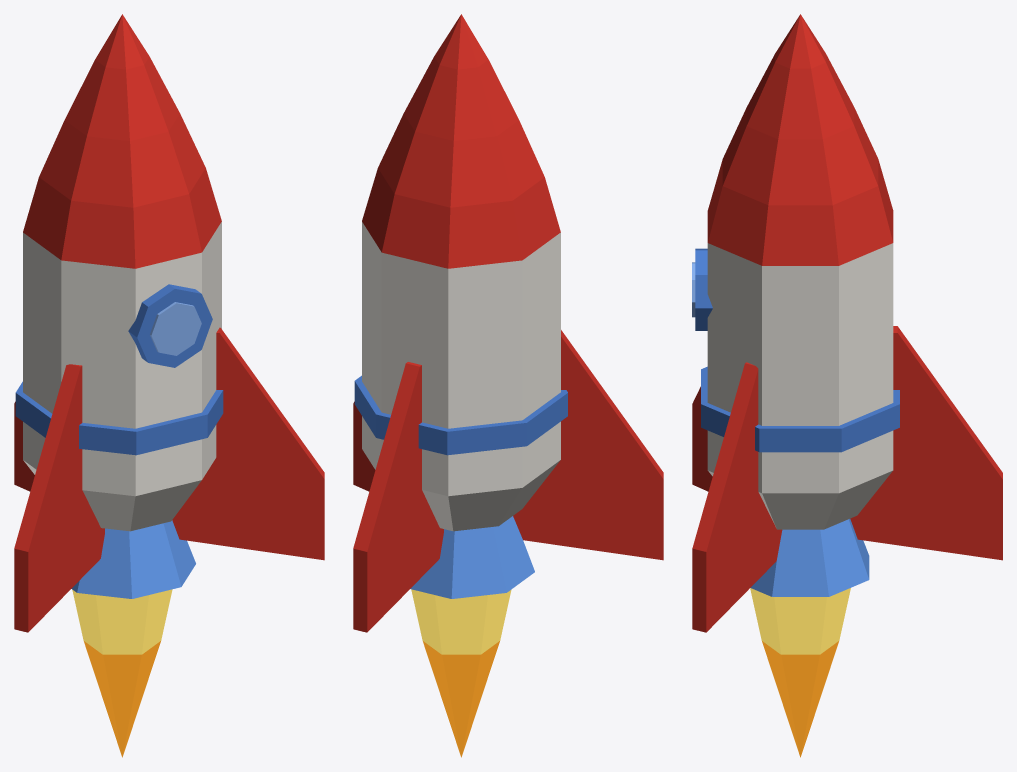
File: rocket.glb
3 views of the same model, side by side, from view 1: azimuth 30°, elevation 25°; view 2: azimuth 150°, elevation 25°; view 3: azimuth 270°, elevation 25° (orthographic).
Parts seen in each view (by area): view 1: Hull, Nose, Fin3, Fin2, Nozzle, Band, FlameBase, FlameTail, PortholeRing, PortholeGlass, Fin1; view 2: Hull, Nose, Fin2, Fin1, Nozzle, Band, FlameBase, FlameTail, Fin3; view 3: Hull, Nose, Fin1, Fin3, Nozzle, Band, FlameBase, FlameTail, Fin2, PortholeRing.
Part boxes in pixels (x1=…): Hull: x1=23, y1=221, x2=221, y2=531; Nose: x1=23, y1=14, x2=221, y2=268; Fin3: x1=172, y1=327, x2=324, y2=560; Fin2: x1=14, y1=364, x2=104, y2=632; Nozzle: x1=71, y1=520, x2=195, y2=598; Band: x1=15, y1=381, x2=223, y2=455; FlameBase: x1=72, y1=589, x2=172, y2=654; FlameTail: x1=84, y1=641, x2=160, y2=757; PortholeRing: x1=128, y1=284, x2=212, y2=367; PortholeGlass: x1=150, y1=302, x2=201, y2=355; Fin1: x1=14, y1=401, x2=34, y2=491; Hull: x1=362, y1=222, x2=560, y2=531; Nose: x1=362, y1=14, x2=560, y2=268; Fin2: x1=513, y1=330, x2=663, y2=560; Fin1: x1=353, y1=362, x2=443, y2=632; Nozzle: x1=410, y1=516, x2=534, y2=598; Band: x1=354, y1=375, x2=567, y2=455; FlameBase: x1=411, y1=589, x2=511, y2=654; FlameTail: x1=423, y1=641, x2=499, y2=757; Fin3: x1=353, y1=401, x2=375, y2=491; Hull: x1=707, y1=243, x2=893, y2=529; Nose: x1=707, y1=14, x2=893, y2=265; Fin1: x1=850, y1=326, x2=1002, y2=560; Fin3: x1=692, y1=362, x2=782, y2=632; Nozzle: x1=750, y1=519, x2=869, y2=596; Band: x1=701, y1=366, x2=899, y2=452; FlameBase: x1=750, y1=588, x2=850, y2=654; FlameTail: x1=762, y1=641, x2=838, y2=757; Fin2: x1=692, y1=386, x2=712, y2=491; PortholeRing: x1=695, y1=248, x2=712, y2=330.
Bounding box in the file's own units: 2.22 × 5.07 × 1.92.
